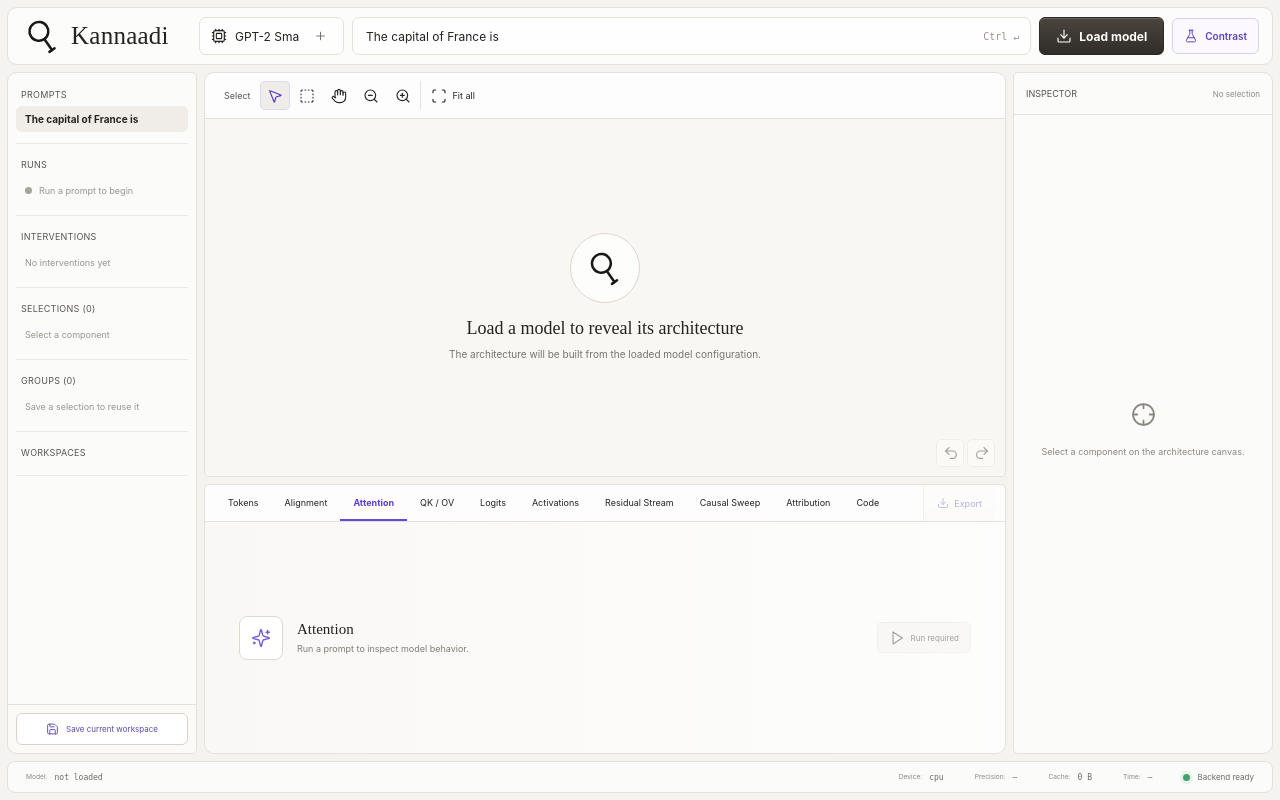
reports a model-load failure without mislabeling the healthy desktop service
Click the button "Load model" at (1102, 36), box [1039,17,1164,55]
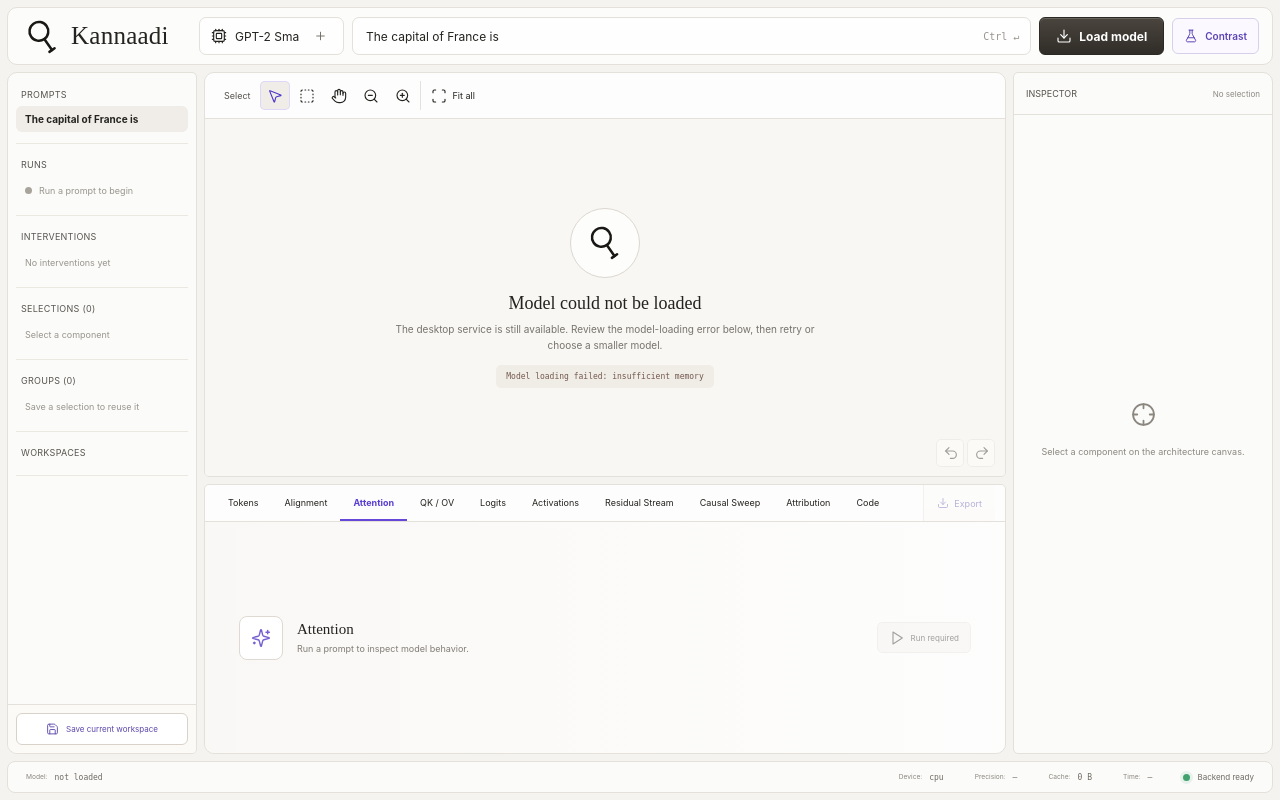
Expected: the heading "Model could not be loaded" is shown, [508,292,702,314]
Expected: the text "Model loading failed: insufficient memory" is shown, [496,364,714,388]
